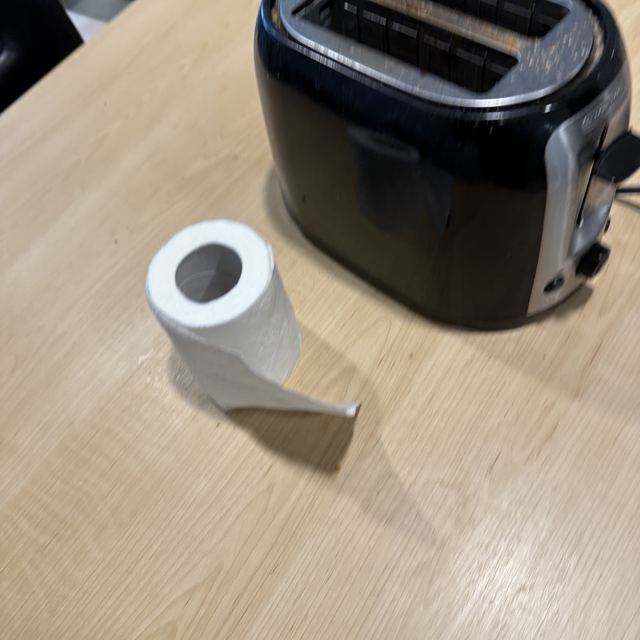Toaster: (253, 0, 640, 336)
Toilet Paper: (149, 223, 337, 418)
